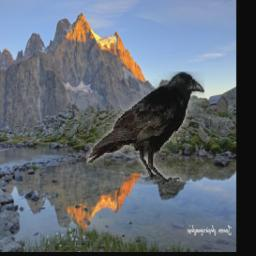Crow: (86, 71, 204, 185)
